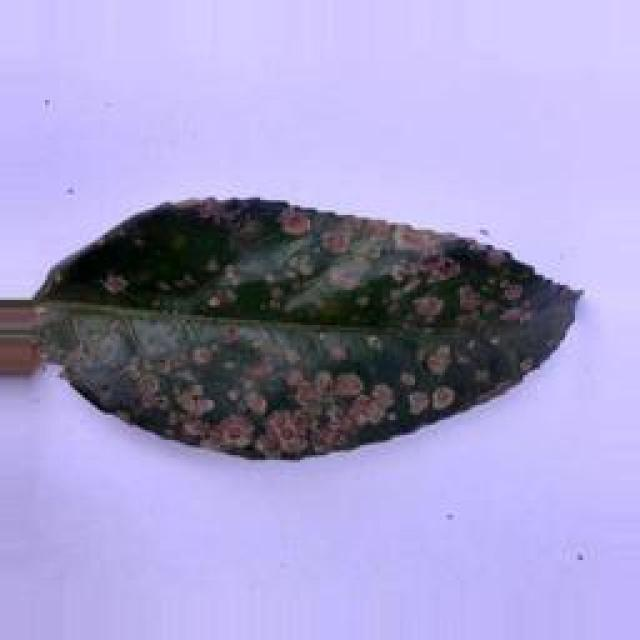Algal Leaf Spot: (48, 193, 586, 452)
